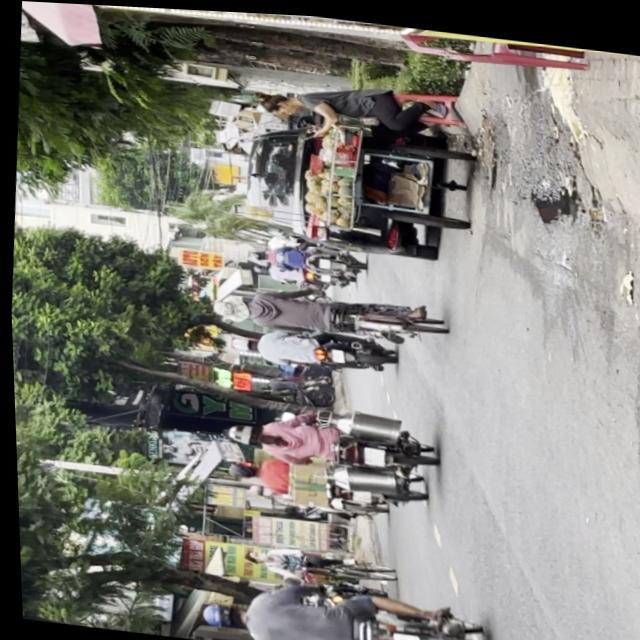helmet: (193, 599, 241, 630), (222, 420, 260, 445)
licenseplate: (189, 568, 488, 640), (221, 399, 436, 479)
motorcyclist: (19, 1, 111, 49)
nohelmet: (359, 443, 381, 462), (386, 627, 417, 640)
